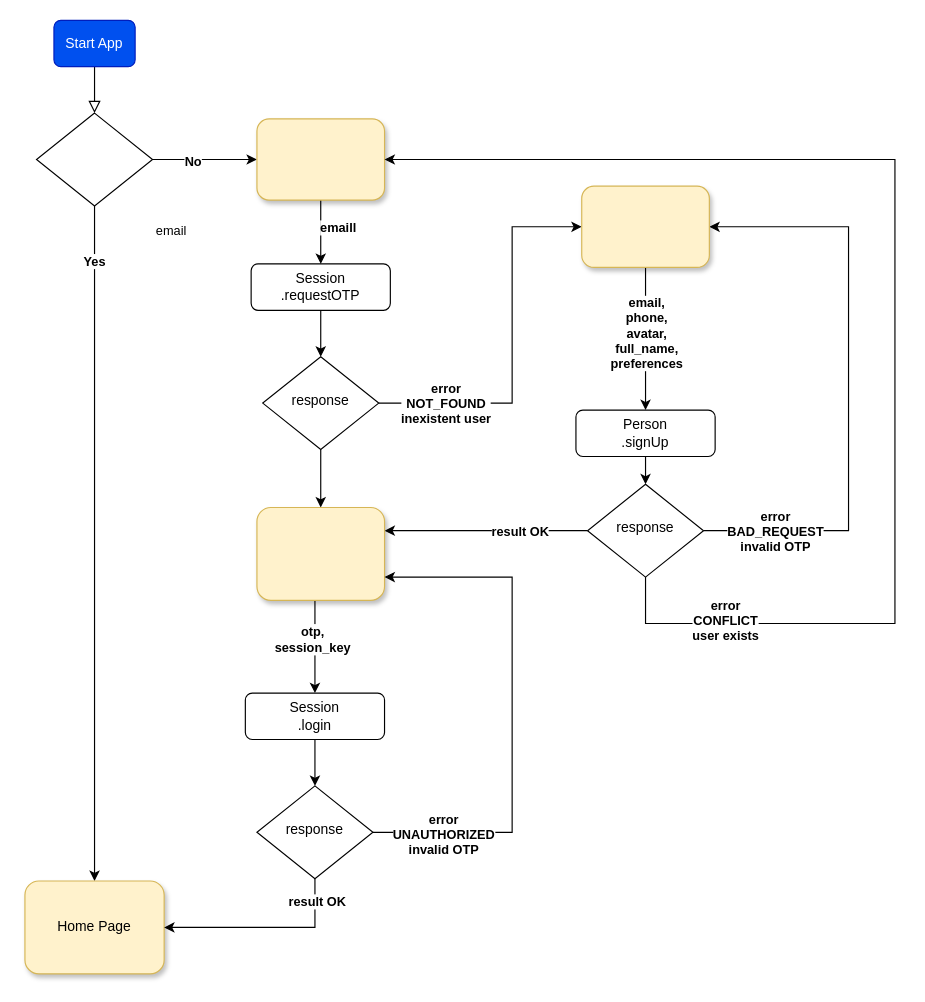
The diagram is 925 pixels wide and 1002 high, and some of its shapes have lost their labels. Each missing label, with the centre of its shape:
"Input OTP" goes at point 321,555.
"Login Dialog" goes at point 321,160.
"Session .isActive?" goes at point 94,159.
"Signup Dialog" goes at point 646,228.
